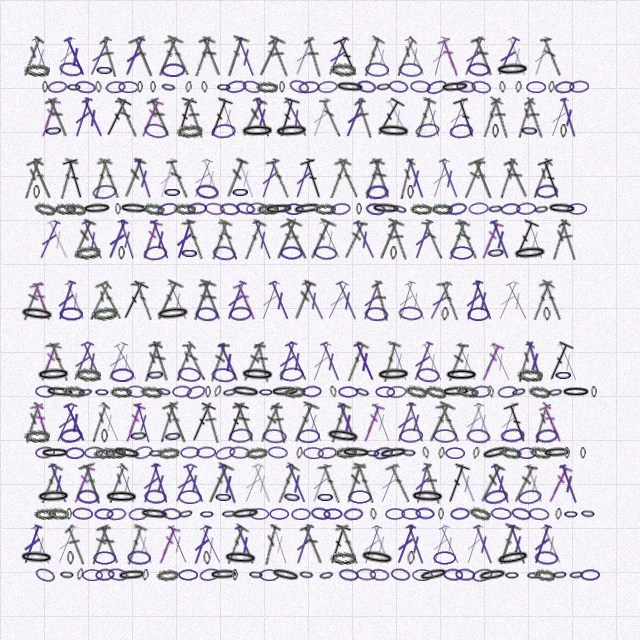chain: (495, 548, 531, 568), (359, 548, 395, 567), (19, 305, 55, 323), (325, 427, 361, 445), (155, 305, 191, 322), (480, 443, 512, 462), (512, 245, 548, 261), (274, 123, 309, 139), (376, 123, 411, 139), (223, 550, 258, 566), (270, 566, 301, 584), (418, 566, 449, 583), (495, 62, 530, 77), (36, 367, 71, 382), (240, 367, 275, 382), (376, 367, 411, 382), (36, 489, 71, 504), (410, 489, 445, 504), (19, 550, 54, 565), (111, 445, 142, 461), (378, 445, 409, 461), (477, 567, 508, 583), (240, 124, 275, 138), (444, 368, 479, 382), (104, 490, 139, 504), (143, 122, 169, 140), (483, 488, 509, 506), (517, 488, 543, 506), (292, 201, 323, 216), (230, 384, 261, 399), (230, 506, 261, 521), (74, 244, 101, 261), (91, 305, 118, 322), (58, 61, 84, 78), (139, 507, 170, 521), (176, 123, 203, 139), (415, 122, 440, 139), (177, 366, 202, 383), (335, 80, 365, 94), (440, 80, 470, 94), (264, 202, 294, 216), (45, 385, 75, 399), (117, 568, 147, 582), (425, 78, 448, 96), (214, 444, 237, 462), (195, 183, 219, 200), (59, 427, 83, 444), (468, 505, 492, 522), (398, 62, 423, 78), (211, 123, 236, 139), (449, 123, 474, 139), (92, 184, 117, 200), (143, 245, 168, 261), (313, 245, 338, 261), (364, 306, 389, 322), (211, 367, 236, 383), (262, 428, 287, 444), (466, 428, 491, 444), (534, 550, 559, 566), (185, 383, 207, 401), (34, 566, 56, 584), (330, 62, 356, 77), (82, 202, 112, 215), (119, 202, 149, 215), (371, 202, 401, 215), (547, 202, 577, 215), (75, 367, 101, 382), (270, 385, 300, 398), (441, 385, 471, 398), (341, 446, 371, 459), (542, 446, 572, 459), (209, 568, 239, 581), (365, 184, 389, 200), (33, 201, 57, 217), (212, 245, 236, 261), (195, 306, 219, 322), (416, 367, 440, 383), (424, 384, 448, 400), (535, 428, 559, 444), (398, 306, 423, 321), (279, 367, 304, 382), (500, 428, 525, 443), (288, 78, 310, 95), (132, 444, 154, 461), (156, 201, 179, 217), (471, 567, 494, 583), (24, 63, 50, 77), (517, 368, 543, 382), (24, 429, 50, 443), (330, 551, 356, 565), (365, 62, 389, 77), (467, 62, 491, 77), (535, 184, 559, 199), (561, 386, 591, 398), (229, 428, 253, 443), (399, 428, 423, 443), (40, 447, 70, 459), (76, 489, 100, 504), (127, 550, 151, 565), (241, 79, 263, 95), (470, 79, 492, 95), (446, 201, 468, 217), (372, 445, 394, 461), (510, 506, 532, 522), (229, 306, 252, 321), (405, 384, 428, 399), (456, 384, 479, 399), (499, 445, 522, 460), (529, 445, 552, 460), (144, 489, 167, 504), (161, 63, 185, 77), (450, 246, 474, 260), (59, 307, 83, 321), (110, 368, 134, 382), (433, 429, 457, 443), (178, 490, 202, 504), (348, 490, 372, 504), (225, 79, 247, 94), (64, 202, 87, 216), (142, 202, 165, 216), (280, 246, 303, 260), (467, 307, 490, 321), (140, 385, 163, 399), (283, 385, 306, 399), (528, 385, 551, 399), (297, 429, 320, 443), (93, 446, 116, 460), (157, 446, 180, 460), (245, 446, 268, 460), (93, 551, 116, 565), (433, 551, 456, 565), (156, 568, 179, 582), (533, 568, 556, 582), (163, 428, 183, 444), (282, 489, 302, 505), (356, 79, 377, 94), (388, 79, 409, 94), (235, 201, 256, 216), (310, 506, 331, 521), (107, 567, 128, 582), (199, 567, 220, 582), (390, 567, 411, 582), (74, 80, 96, 94), (298, 80, 320, 94), (528, 507, 550, 521), (353, 384, 372, 400), (486, 245, 506, 260), (47, 80, 68, 94), (105, 80, 126, 94), (317, 80, 338, 94), (554, 80, 575, 94), (204, 202, 225, 216), (219, 202, 240, 216), (330, 202, 351, 216), (365, 202, 386, 216), (500, 202, 521, 216), (386, 385, 407, 399), (497, 385, 518, 399), (317, 446, 338, 460), (106, 507, 127, 521), (128, 507, 149, 521), (161, 507, 182, 521), (343, 507, 364, 521), (338, 568, 359, 582), (369, 568, 390, 582), (391, 201, 409, 217), (63, 385, 85, 398), (335, 446, 357, 459), (47, 507, 69, 520), (490, 507, 512, 520), (44, 123, 63, 138), (520, 123, 539, 138), (146, 367, 165, 382), (129, 428, 148, 443), (410, 80, 431, 93), (246, 202, 267, 215), (468, 202, 489, 215), (229, 446, 250, 459), (267, 446, 288, 459), (72, 507, 93, 520), (155, 384, 173, 399), (510, 384, 528, 399), (177, 506, 195, 521), (95, 63, 114, 77), (163, 185, 182, 199), (231, 185, 250, 199), (180, 246, 199, 260), (554, 368, 573, 382), (214, 490, 233, 504), (316, 490, 335, 504), (256, 81, 278, 93), (54, 203, 76, 215), (174, 203, 196, 215), (257, 203, 279, 215), (314, 203, 336, 215), (410, 203, 432, 215), (431, 203, 453, 215), (110, 386, 132, 398), (104, 447, 126, 459), (34, 508, 56, 520), (456, 80, 476, 93), (569, 80, 589, 93), (187, 202, 207, 215), (516, 202, 536, 215), (35, 385, 55, 398), (126, 385, 146, 398), (172, 385, 192, 398), (302, 385, 322, 398), (471, 385, 491, 398), (35, 446, 55, 459), (84, 446, 104, 459), (180, 446, 200, 459), (196, 446, 216, 459), (415, 507, 435, 520), (450, 507, 470, 520), (95, 568, 115, 581), (356, 568, 376, 581), (443, 568, 463, 581), (455, 568, 475, 581), (118, 81, 139, 93), (221, 385, 239, 399), (303, 447, 324, 459), (82, 569, 103, 581), (412, 569, 433, 581), (526, 81, 546, 93), (284, 203, 304, 215), (567, 203, 587, 215), (338, 386, 358, 398), (375, 386, 395, 398), (65, 447, 85, 459), (445, 447, 465, 459), (517, 447, 537, 459), (94, 508, 114, 520), (249, 508, 269, 520), (269, 508, 289, 520), (291, 508, 311, 520), (323, 508, 343, 520), (385, 508, 405, 520), (401, 508, 421, 520), (178, 569, 198, 581), (259, 569, 279, 581), (580, 569, 600, 581), (160, 80, 177, 94), (533, 202, 550, 216), (77, 385, 94, 399), (547, 385, 564, 399), (318, 568, 335, 582), (375, 80, 392, 93), (487, 202, 504, 215), (298, 568, 315, 581), (568, 568, 585, 581), (401, 446, 417, 459), (221, 507, 237, 520), (580, 507, 596, 520), (59, 568, 75, 581), (248, 568, 264, 581), (552, 568, 568, 581), (66, 81, 82, 93), (216, 81, 232, 93), (94, 386, 110, 398), (258, 386, 274, 398), (148, 447, 164, 459), (365, 447, 381, 459), (199, 508, 215, 520), (563, 508, 579, 520), (504, 569, 520, 581), (526, 569, 542, 581), (213, 385, 222, 398), (329, 385, 338, 398), (441, 307, 449, 321), (543, 307, 551, 321), (203, 551, 211, 565), (407, 551, 415, 565), (487, 385, 495, 398), (422, 446, 430, 459), (76, 568, 84, 581), (492, 124, 499, 138), (560, 124, 567, 138), (33, 185, 40, 199), (407, 185, 414, 199), (118, 246, 125, 260), (390, 246, 397, 260), (101, 429, 108, 443), (67, 551, 74, 565), (472, 447, 480, 459), (95, 81, 102, 93), (185, 81, 192, 93), (201, 81, 208, 93), (499, 81, 506, 93), (515, 81, 522, 93), (548, 81, 555, 93), (296, 447, 303, 459), (438, 447, 445, 459), (370, 508, 377, 520), (555, 508, 562, 520), (142, 569, 149, 581), (42, 81, 48, 93), (137, 81, 143, 93), (150, 81, 156, 93), (279, 81, 285, 93), (115, 203, 121, 215), (356, 203, 362, 215), (205, 386, 211, 398), (591, 386, 597, 398), (564, 447, 570, 459), (580, 447, 586, 459), (66, 508, 72, 520), (438, 508, 444, 520), (232, 569, 238, 581)
double: (371, 96, 406, 140), (280, 218, 314, 262), (253, 35, 286, 79), (100, 96, 133, 140), (270, 218, 303, 262), (304, 218, 337, 262), (117, 279, 150, 323), (151, 279, 184, 323), (423, 401, 456, 445), (202, 462, 235, 506), (128, 35, 160, 79), (152, 35, 184, 79), (332, 35, 364, 79), (26, 157, 58, 201), (373, 218, 405, 262), (543, 340, 575, 384), (288, 401, 320, 445), (468, 157, 499, 201), (509, 218, 540, 262), (162, 401, 193, 445), (186, 401, 217, 445), (94, 279, 125, 322), (204, 96, 234, 140), (187, 279, 217, 323), (78, 462, 108, 506), (281, 97, 312, 139), (383, 97, 414, 139), (111, 341, 142, 383), (163, 35, 193, 78), (503, 157, 533, 200), (350, 218, 380, 261), (299, 279, 329, 322), (282, 340, 312, 383), (340, 340, 370, 383), (34, 462, 64, 505), (170, 462, 200, 505), (384, 462, 414, 505), (221, 35, 250, 79), (452, 96, 481, 140), (299, 157, 328, 201), (537, 157, 566, 201), (221, 401, 250, 445), (503, 401, 532, 445), (442, 462, 471, 506), (493, 523, 522, 567), (238, 97, 268, 139), (425, 280, 455, 322), (476, 463, 506, 505), (61, 35, 90, 78), (85, 35, 114, 78), (323, 35, 352, 78), (401, 35, 430, 78), (459, 35, 488, 78), (493, 35, 522, 78), (44, 96, 73, 139), (146, 96, 175, 139), (265, 157, 294, 200), (323, 157, 352, 200), (333, 157, 362, 200), (44, 218, 73, 261), (238, 218, 267, 261), (316, 218, 345, 261), (442, 218, 471, 261), (61, 279, 90, 322), (333, 279, 362, 322), (493, 279, 522, 322), (527, 279, 556, 322), (68, 340, 97, 383), (78, 340, 107, 383), (452, 340, 481, 383), (61, 401, 90, 444), (95, 401, 124, 444), (435, 401, 464, 444), (180, 462, 209, 505), (272, 462, 301, 505), (221, 523, 250, 566), (299, 523, 328, 566), (273, 96, 301, 140), (324, 523, 352, 567), (323, 280, 352, 322), (503, 280, 532, 322), (544, 463, 573, 505), (197, 524, 226, 566), (120, 35, 148, 78), (188, 35, 216, 78), (198, 35, 226, 78), (290, 35, 318, 78), (358, 35, 386, 78), (470, 35, 498, 78), (409, 96, 437, 139), (443, 96, 471, 139), (188, 157, 216, 200), (358, 157, 386, 200), (69, 218, 97, 261), (103, 218, 131, 261), (205, 218, 233, 261), (198, 279, 226, 322), (266, 279, 294, 322), (45, 340, 73, 383), (103, 340, 131, 383), (317, 340, 345, 383), (351, 340, 379, 383), (324, 401, 352, 444), (239, 462, 267, 505), (283, 462, 311, 505), (317, 462, 345, 505), (375, 462, 403, 505), (453, 462, 481, 505), (52, 523, 80, 566), (96, 523, 124, 566), (120, 523, 148, 566), (130, 523, 158, 566), (164, 523, 192, 566), (334, 523, 362, 566), (470, 523, 498, 566), (538, 523, 566, 566), (171, 96, 198, 140), (62, 157, 89, 201), (79, 97, 107, 139), (35, 219, 63, 261), (79, 219, 107, 261), (164, 280, 192, 322), (232, 280, 260, 322), (402, 280, 430, 322), (215, 341, 243, 383), (419, 341, 447, 383), (477, 341, 505, 383), (487, 341, 515, 383), (52, 402, 80, 444), (538, 402, 566, 444), (436, 524, 464, 566), (504, 35, 531, 78), (477, 96, 504, 139), (545, 96, 572, 139), (96, 157, 123, 200), (120, 157, 147, 200), (198, 157, 225, 200), (222, 157, 249, 200), (436, 157, 463, 200), (147, 218, 174, 261), (181, 218, 208, 261), (487, 218, 514, 261), (130, 279, 157, 322), (222, 279, 249, 322), (256, 279, 283, 322), (290, 279, 317, 322), (358, 279, 385, 322), (436, 279, 463, 322), (470, 279, 497, 322), (538, 279, 565, 322), (409, 340, 436, 383), (232, 401, 259, 444), (300, 401, 327, 444), (368, 401, 395, 444), (392, 401, 419, 444), (460, 401, 487, 444), (470, 401, 497, 444), (45, 462, 72, 505), (249, 462, 276, 505), (307, 462, 334, 505), (351, 462, 378, 505), (521, 462, 548, 505), (368, 523, 395, 566), (392, 523, 419, 566), (137, 97, 164, 139), (341, 97, 368, 139), (477, 219, 504, 261), (555, 341, 582, 383), (69, 463, 96, 505), (28, 524, 55, 566), (154, 524, 181, 566), (232, 524, 259, 566), (529, 35, 555, 78), (308, 96, 334, 139), (53, 157, 79, 200), (87, 157, 113, 200), (233, 157, 259, 200), (369, 157, 395, 200), (403, 157, 429, 200), (427, 157, 453, 200), (410, 218, 436, 261), (522, 218, 548, 261), (53, 279, 79, 322), (148, 340, 174, 383), (274, 340, 300, 383), (376, 340, 402, 383), (386, 340, 412, 383), (403, 401, 429, 444), (495, 401, 521, 444), (138, 462, 164, 505), (19, 523, 45, 566), (291, 523, 317, 566), (403, 523, 429, 566), (427, 523, 453, 566), (505, 523, 531, 566), (529, 523, 555, 566), (18, 36, 45, 77), (341, 219, 368, 260), (511, 463, 538, 504), (233, 36, 259, 78), (369, 36, 395, 78), (437, 36, 463, 78), (250, 219, 276, 261), (29, 280, 55, 322), (36, 341, 62, 383), (240, 341, 266, 383), (308, 341, 334, 383), (257, 402, 283, 444), (335, 402, 361, 444), (359, 402, 385, 444), (114, 463, 140, 505), (488, 463, 514, 505), (556, 463, 582, 505), (63, 524, 89, 566), (359, 524, 385, 566), (86, 281, 113, 321), (70, 96, 95, 139), (216, 96, 241, 139), (250, 96, 275, 139), (420, 96, 445, 139), (155, 157, 180, 200), (257, 157, 282, 200), (291, 157, 316, 200), (138, 218, 163, 261), (172, 218, 197, 261), (461, 279, 486, 322), (148, 462, 173, 505), (342, 462, 367, 505), (182, 341, 208, 382), (29, 36, 54, 78), (267, 36, 292, 78), (19, 158, 44, 200), (461, 158, 486, 200), (121, 402, 146, 444), (216, 463, 241, 505), (189, 524, 214, 566), (54, 35, 78, 78), (37, 96, 61, 139), (557, 96, 581, 139), (132, 157, 156, 200), (115, 218, 139, 261), (394, 279, 418, 322), (523, 340, 547, 383), (30, 401, 54, 444), (268, 523, 292, 566), (462, 523, 486, 566), (393, 36, 418, 77), (529, 158, 554, 199), (172, 341, 197, 382), (115, 97, 139, 139), (183, 97, 207, 139), (523, 97, 547, 139), (166, 158, 190, 200), (387, 219, 411, 261), (455, 219, 479, 261), (547, 219, 571, 261), (20, 280, 44, 322), (139, 341, 163, 383), (445, 341, 469, 383), (20, 402, 44, 444), (428, 35, 451, 78), (411, 462, 434, 505), (319, 97, 343, 138), (421, 219, 445, 260), (105, 463, 129, 504), (98, 36, 121, 78), (540, 36, 563, 78), (353, 97, 376, 139), (557, 219, 580, 261), (207, 341, 230, 383), (132, 402, 155, 444), (421, 463, 444, 505), (496, 158, 519, 199), (88, 402, 111, 443), (156, 402, 179, 443), (303, 36, 325, 78), (490, 97, 512, 139), (514, 97, 536, 139), (218, 219, 240, 261), (514, 341, 536, 383), (201, 402, 223, 444), (89, 524, 111, 566), (259, 524, 281, 566), (371, 280, 392, 322), (269, 402, 290, 444), (531, 402, 552, 444), (396, 158, 416, 200), (253, 341, 273, 383)
